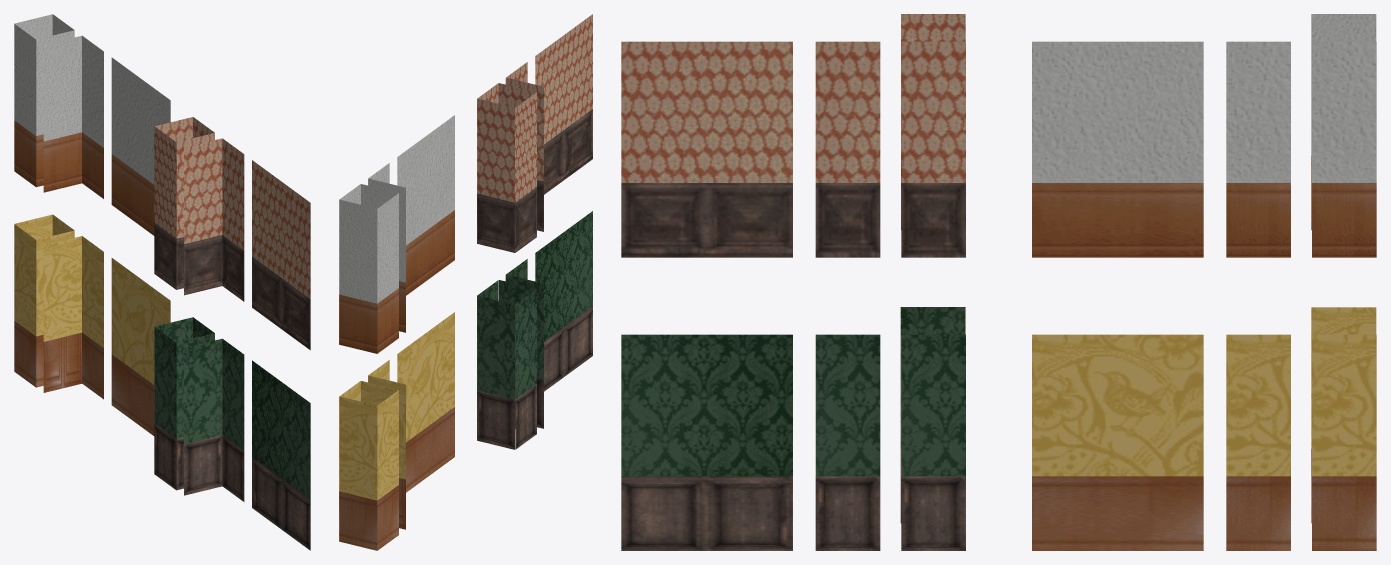
File: psx_style_office_walls_pack.glb
3 renders of one model, left to right at view 1: azimuth 30°, elevation 25°; view 2: azimuth 150°, elevation 25°; view 3: azimuth 270°, elevation 25°, orthographic. The views are drawn at different scales.
Parts seen in each view (by area): view 1: Wall Small 3, Wall Small 1, Wall Small 2, Wall Small 4, Wall 3, Wall 1, Wall 4, Wall 2, Wall Pillar 1, Wall Pillar 2, Wall Pillar 3, Wall Pillar 4; view 2: Wall Pillar 1, Wall Pillar 3, Wall Pillar 4, Wall Pillar 2, Wall 3, Wall 1, Wall 2, Wall 4, Wall Small 3, Wall Small 1, Wall Small 2, Wall Small 4; view 3: Wall 1, Wall 2, Wall 3, Wall 4, Wall Pillar 2, Wall Pillar 4, Wall Pillar 1, Wall Pillar 3, Wall Small 1, Wall Small 3, Wall Small 2, Wall Small 4.
Boxes of the visible parts, x1=… form: Wall Small 3: x1=184, y1=138, x2=244, y2=301; Wall Small 1: x1=184, y1=338, x2=244, y2=501; Wall Small 2: x1=43, y1=236, x2=103, y2=399; Wall Small 4: x1=43, y1=35, x2=103, y2=198; Wall 3: x1=252, y1=160, x2=310, y2=350; Wall 1: x1=252, y1=360, x2=310, y2=550; Wall 4: x1=111, y1=57, x2=170, y2=235; Wall 2: x1=111, y1=258, x2=170, y2=435; Wall Pillar 1: x1=154, y1=317, x2=214, y2=490; Wall Pillar 2: x1=14, y1=214, x2=74, y2=387; Wall Pillar 3: x1=154, y1=117, x2=214, y2=289; Wall Pillar 4: x1=14, y1=14, x2=74, y2=187; Wall Pillar 1: x1=477, y1=280, x2=536, y2=449; Wall Pillar 3: x1=477, y1=83, x2=536, y2=252; Wall Pillar 4: x1=339, y1=184, x2=398, y2=353; Wall Pillar 2: x1=339, y1=381, x2=398, y2=550; Wall 3: x1=535, y1=14, x2=592, y2=194; Wall 1: x1=535, y1=211, x2=592, y2=391; Wall 2: x1=397, y1=312, x2=454, y2=492; Wall 4: x1=397, y1=115, x2=454, y2=295; Wall Small 3: x1=505, y1=62, x2=543, y2=231; Wall Small 1: x1=505, y1=259, x2=543, y2=428; Wall Small 2: x1=368, y1=360, x2=405, y2=529; Wall Small 4: x1=368, y1=163, x2=405, y2=332; Wall 1: x1=621, y1=334, x2=792, y2=550; Wall 2: x1=1032, y1=334, x2=1203, y2=550; Wall 3: x1=621, y1=41, x2=792, y2=257; Wall 4: x1=1032, y1=41, x2=1203, y2=257; Wall Pillar 2: x1=1311, y1=307, x2=1376, y2=550; Wall Pillar 4: x1=1311, y1=14, x2=1376, y2=257; Wall Pillar 1: x1=900, y1=307, x2=965, y2=550; Wall Pillar 3: x1=901, y1=14, x2=965, y2=257; Wall Small 1: x1=815, y1=334, x2=880, y2=550; Wall Small 3: x1=815, y1=41, x2=880, y2=257; Wall Small 2: x1=1226, y1=334, x2=1290, y2=550; Wall Small 4: x1=1226, y1=41, x2=1290, y2=257.
Size of the model in its own units: 0.6071 by 5.22 by 7.01.
Materials: 4 (4 with a texture image).
